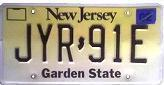placa de veiculo: (3, 3, 156, 83)
